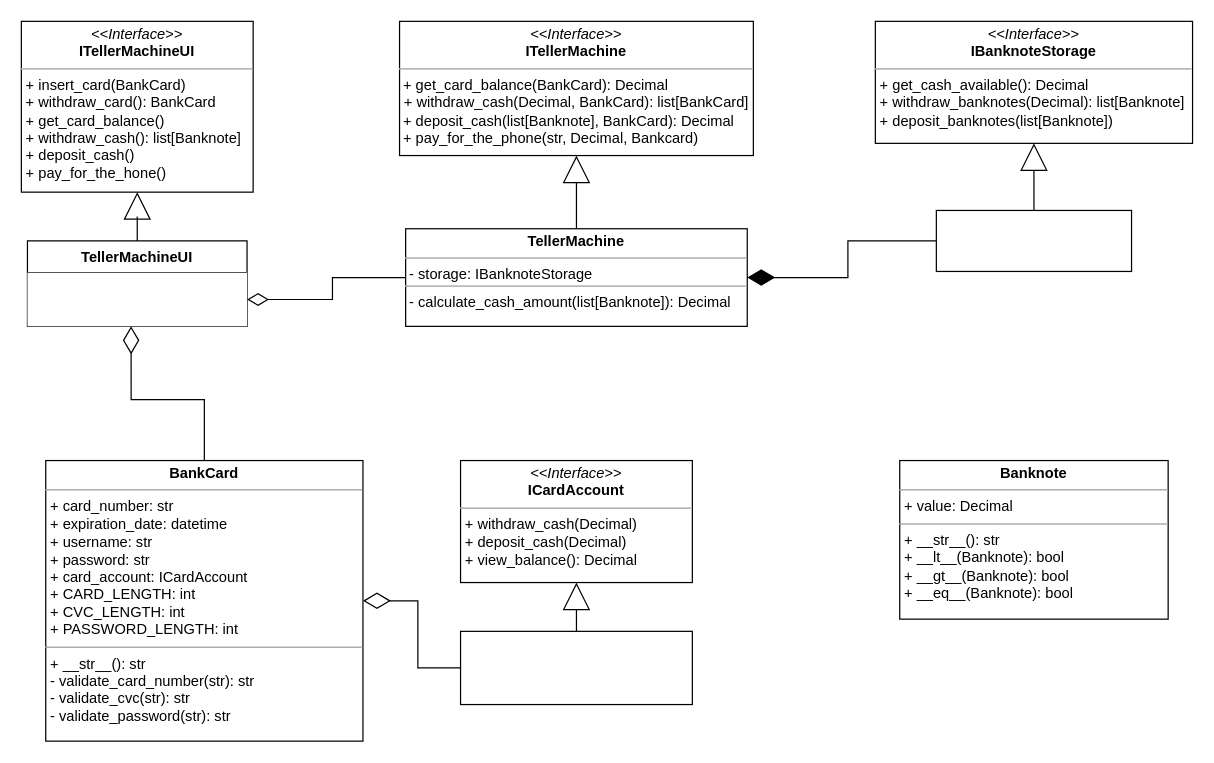
This 1214x763 diagram has some shape labels left out. The centre of each missing label's shape, as x and y in pixels:
"- teller_machine: ITellerMachine - card_inserted: BankCard" goes at point (136, 299).
"BanknoteStorage - banknotes: list[Banknote]" goes at point (1033, 240).
"CardAccount + balance: Decimal" goes at point (575, 667).
